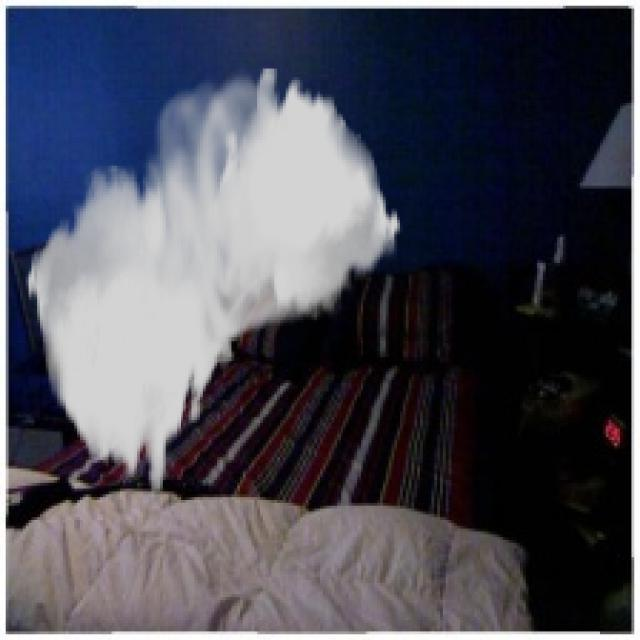Smoke: (26, 66, 403, 492)
